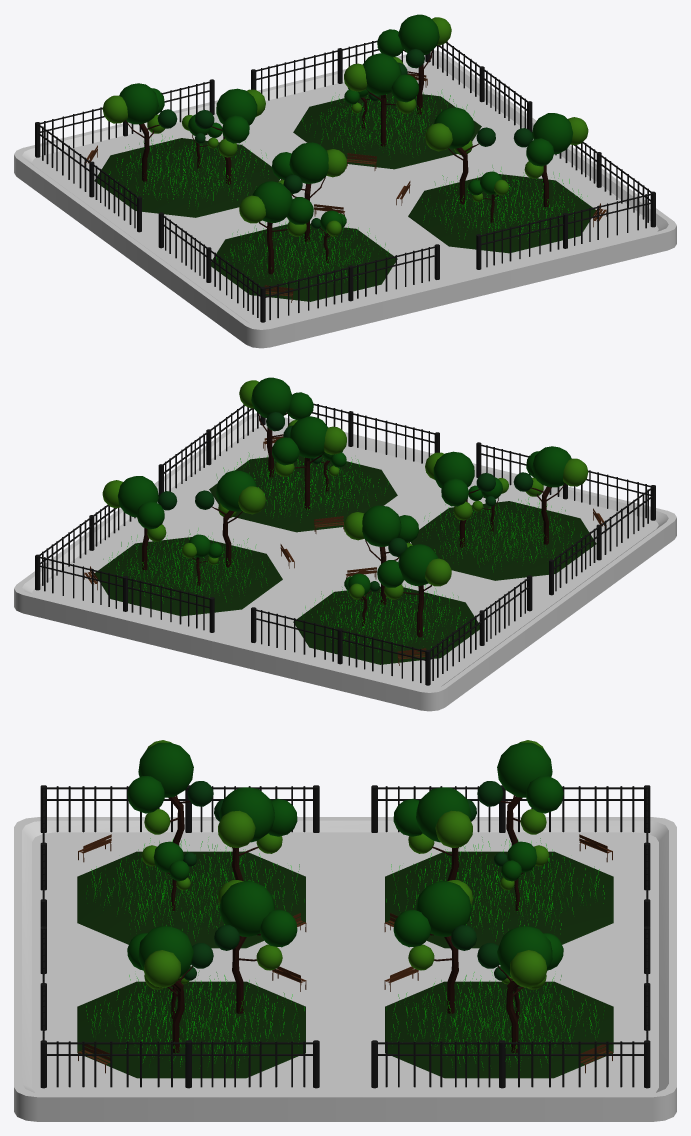
File: green_2.obj
3 views of the same model, one above another, from view 1: azimuth 30°, elevation 25°; view 2: azimuth 150°, elevation 25°; view 3: azimuth 270°, elevation 25° (orthographic). The views are drawn at different scales.
Parts seen in each view (by area): view 1: Ground_Material.001, Soil_Material.003, Garden_Fences_Material.002, Trees_Material.007, Trees_Material.008, Grass_Material.004, Trees_Material.006, Trees_Material.009, Banks_Material.005; view 2: Ground_Material.001, Soil_Material.003, Garden_Fences_Material.002, Trees_Material.007, Trees_Material.008, Grass_Material.004, Trees_Material.006, Trees_Material.009, Banks_Material.005; view 3: Ground_Material.001, Soil_Material.003, Trees_Material.007, Garden_Fences_Material.002, Trees_Material.008, Grass_Material.004, Trees_Material.006, Trees_Material.009, Banks_Material.005.
Boxes of the visible parts, x1,y1,x2,y2 form: Ground_Material.001: (14,50,676,348); Soil_Material.003: (94,92,596,301); Garden_Fences_Material.002: (35,40,655,322); Trees_Material.007: (119,14,572,232); Trees_Material.008: (102,17,588,236); Grass_Material.004: (109,89,587,288); Trees_Material.006: (125,50,548,274); Trees_Material.009: (157,49,532,228); Banks_Material.005: (84,73,606,302); Ground_Material.001: (14,413,676,711); Soil_Material.003: (94,455,596,664); Garden_Fences_Material.002: (35,403,655,685); Trees_Material.007: (118,377,571,595); Trees_Material.008: (102,380,588,599); Grass_Material.004: (103,452,581,651); Trees_Material.006: (142,413,565,637); Trees_Material.009: (158,412,533,591); Banks_Material.005: (84,436,606,665); Ground_Material.001: (14,817,676,1121); Soil_Material.003: (77,851,613,1078); Trees_Material.007: (127,742,563,977); Garden_Fences_Material.002: (40,785,650,1088); Trees_Material.008: (141,740,549,989); Grass_Material.004: (86,837,604,1067); Trees_Material.006: (167,795,523,1053); Trees_Material.009: (183,781,507,980); Banks_Material.005: (78,834,612,1073).
Size of the model in its own units: 1 by 0.2418 by 1.
